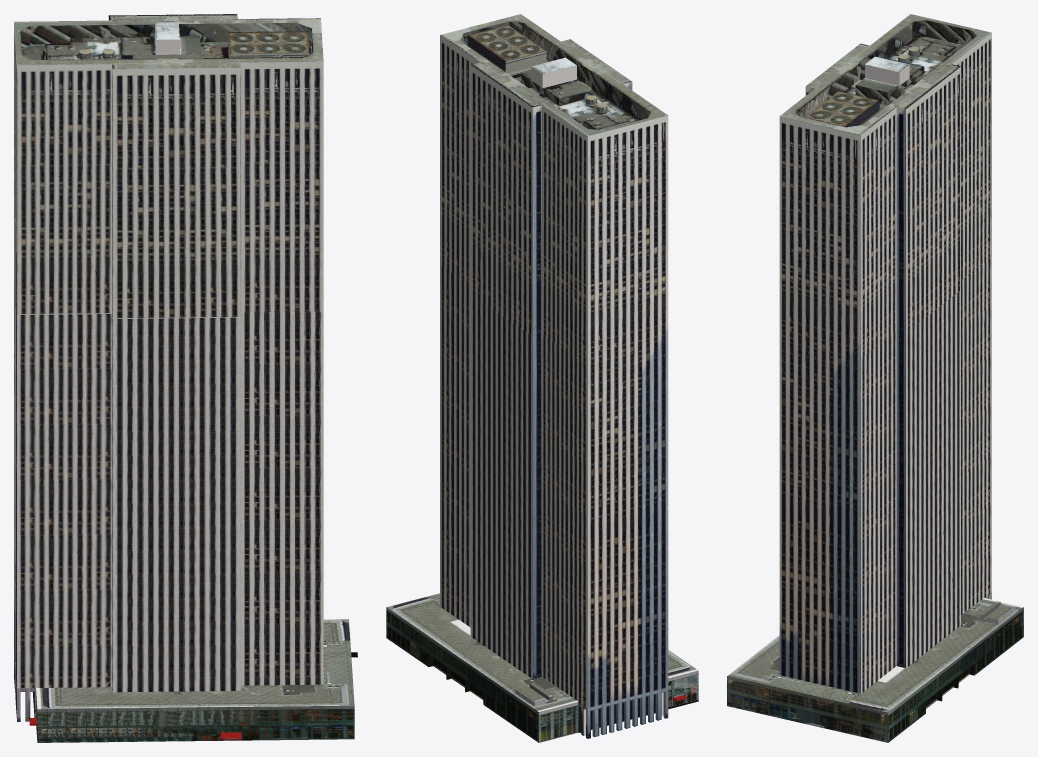
The model's file is general-motors-building.fbx.
3 renders of one model, left to right at view 1: azimuth 30°, elevation 25°; view 2: azimuth 150°, elevation 25°; view 3: azimuth 270°, elevation 25°, orthographic. The views are drawn at different scales.
Visible parts, largest first — view 1: Model; view 2: Model; view 3: Model.
Part boxes in pixels (x1,y1,x2,y2): Model: [14, 14, 357, 742]; Model: [386, 14, 698, 742]; Model: [727, 14, 1023, 742].
Bounding box in the file's own units: 4398 × 8606 × 3865.
